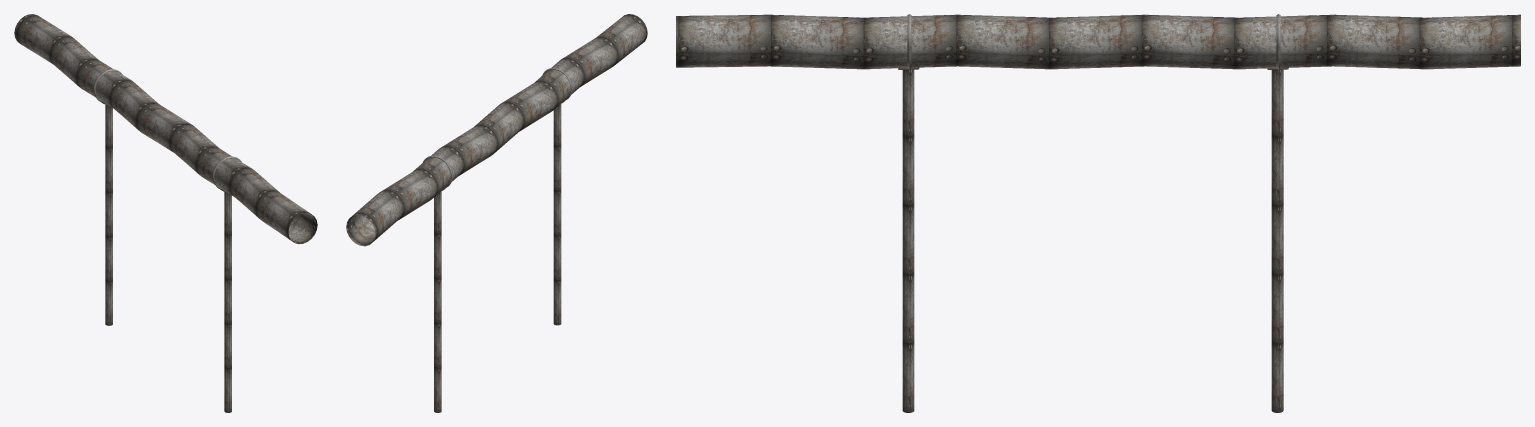
The model's file is Pipe3_Legs.fbx.
The picture shows the model from 3 angles, left to right: view 1: azimuth 30°, elevation 25°; view 2: azimuth 150°, elevation 25°; view 3: azimuth 270°, elevation 25°; orthographic projection. The views are drawn at different scales.
Parts seen in each view (by area): view 1: pCylinder2; view 2: pCylinder2; view 3: pCylinder2.
Part boxes in pixels (x1,y1,x2,y2): pCylinder2: (14,14,317,412); pCylinder2: (346,14,647,412); pCylinder2: (676,14,1520,412).
Size of the model in its own units: 9.88 by 72.82 by 142.
1 material, 1 textured.
